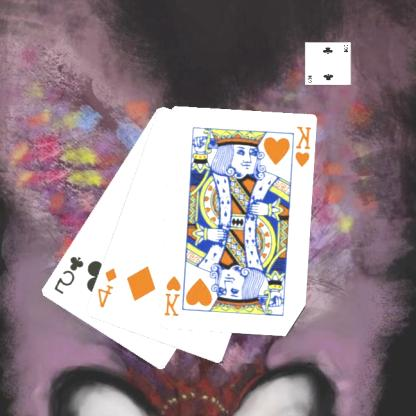4D: (96, 265, 120, 310)
5C: (52, 253, 87, 296)
KH: (162, 273, 184, 318), (293, 123, 314, 169)
